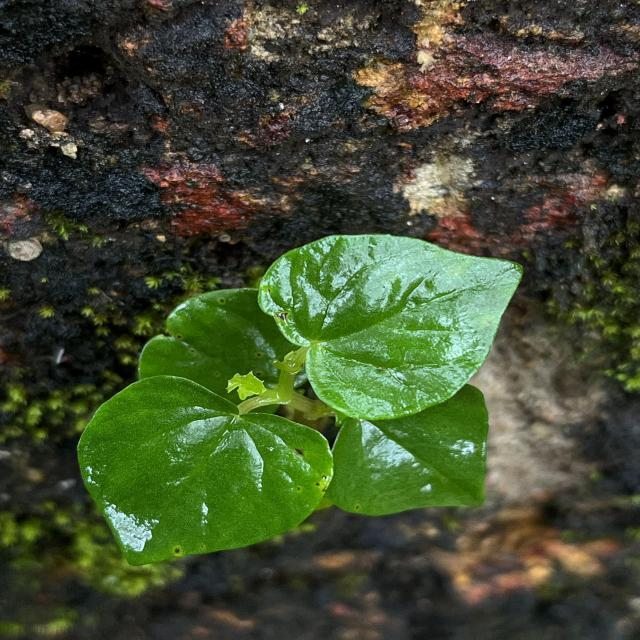Peperomia pellucida: (256, 233, 526, 424), (75, 374, 335, 567)
